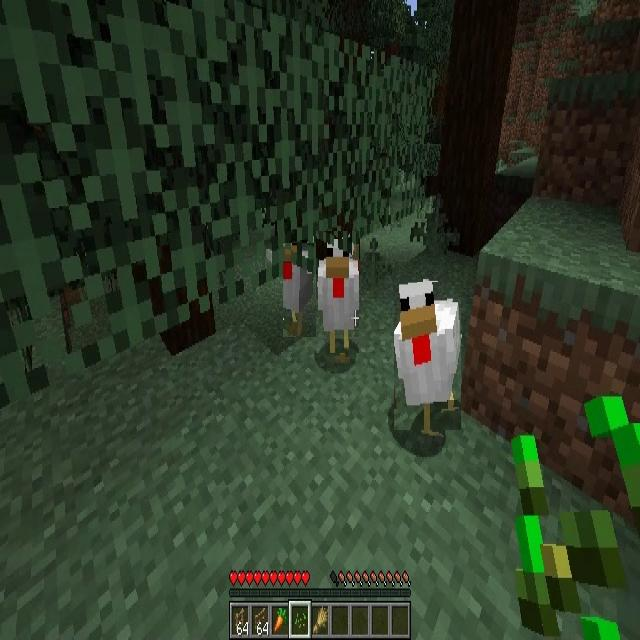duck: (394, 282, 461, 430), (316, 232, 359, 354), (283, 243, 316, 337)
